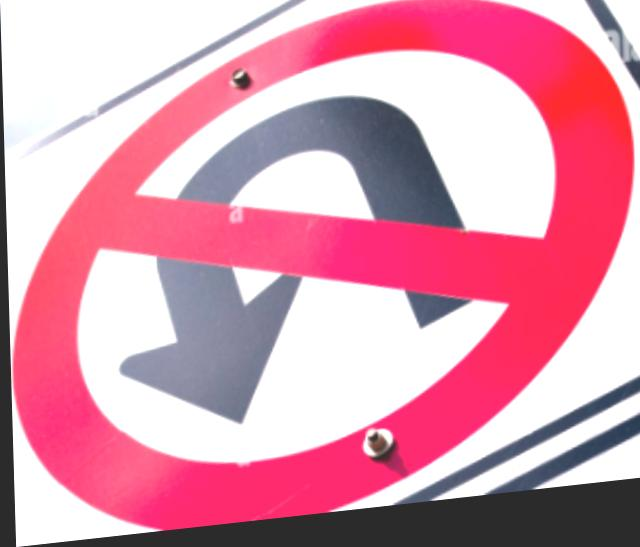not_u_turn_left: (10, 0, 640, 546)
